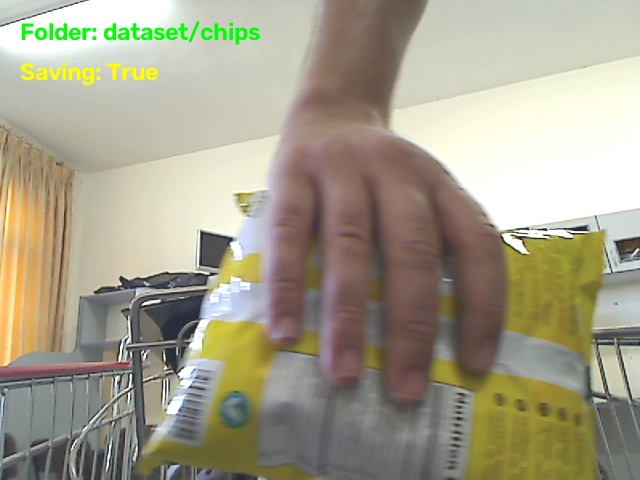chips: (139, 192, 602, 479)
